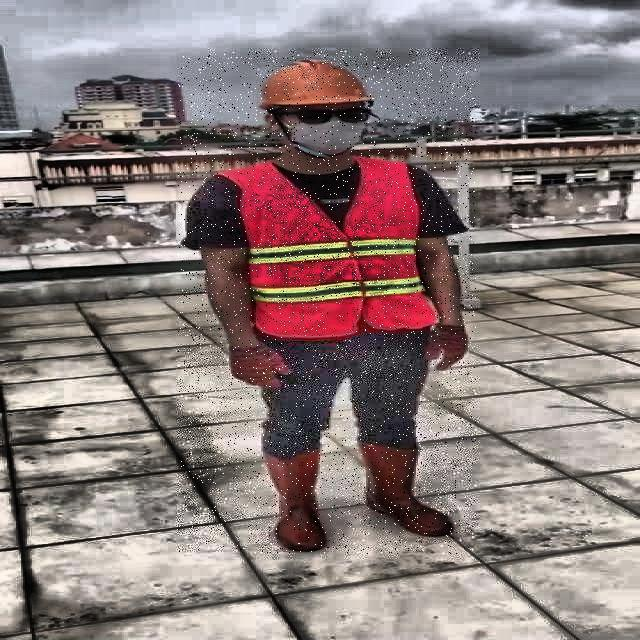safety_helmet: (252, 54, 380, 114)
safety_jacket: (242, 162, 430, 334)
